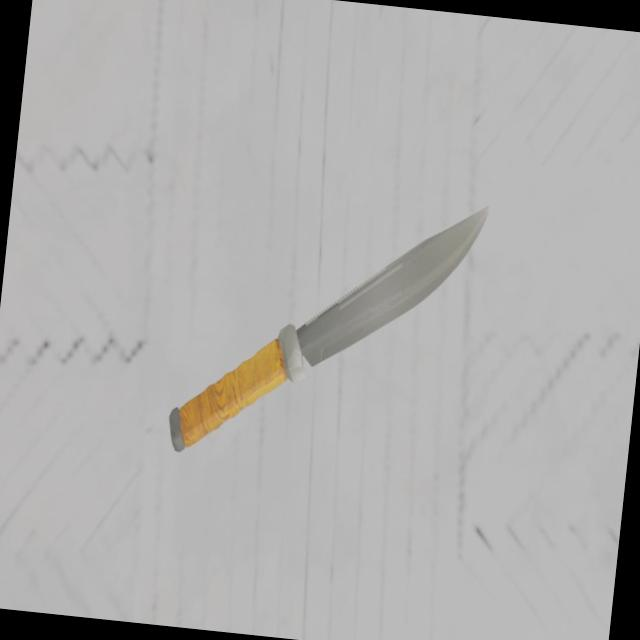knife: (166, 319, 304, 455)
